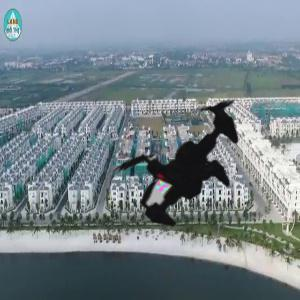drone: (74, 50, 289, 265)
